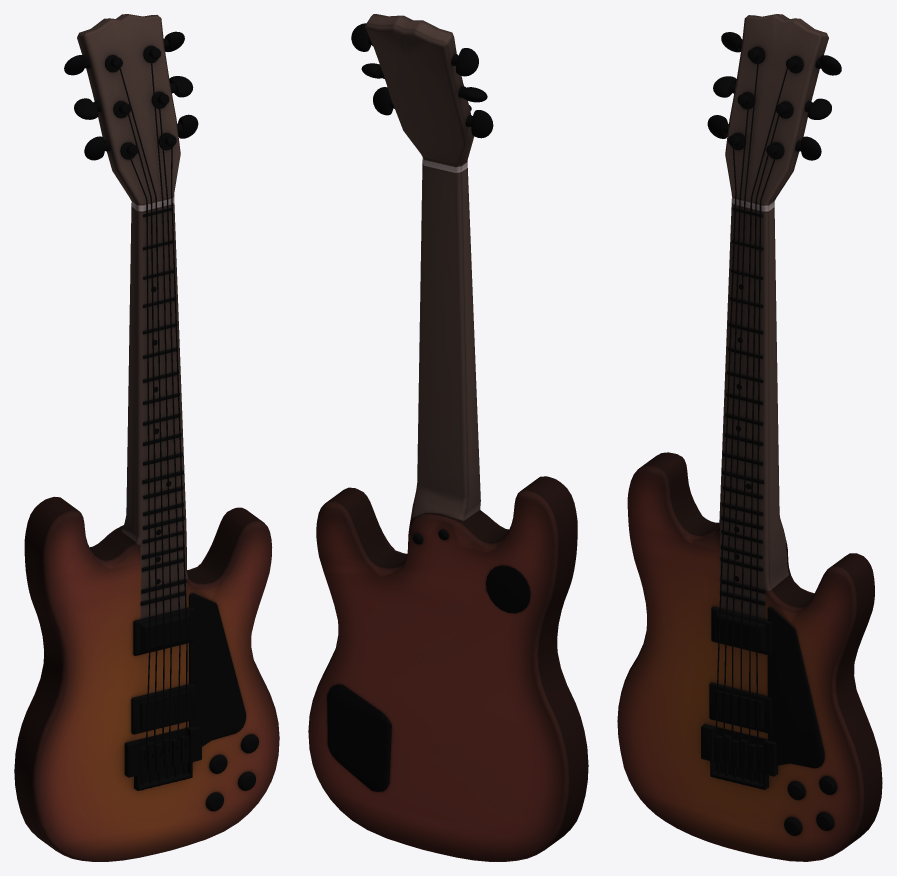
Rendered from Guitar.glb.
3 renders of one model, left to right at view 1: azimuth 30°, elevation 25°; view 2: azimuth 150°, elevation 25°; view 3: azimuth 330°, elevation 25°, orthographic. The views are drawn at different scales.
Parts seen in each view (by area): view 1: electric_guitar.1; view 2: electric_guitar.1; view 3: electric_guitar.1.
Boxes of the visible parts, left/top/right/bottom form: electric_guitar.1: left=14, top=14, right=279, bottom=861; electric_guitar.1: left=308, top=14, right=588, bottom=861; electric_guitar.1: left=617, top=14, right=882, bottom=861.
Bounding box in the file's own units: 0.0151 × 0.0472 × 0.00598.
1 material, 1 textured.
